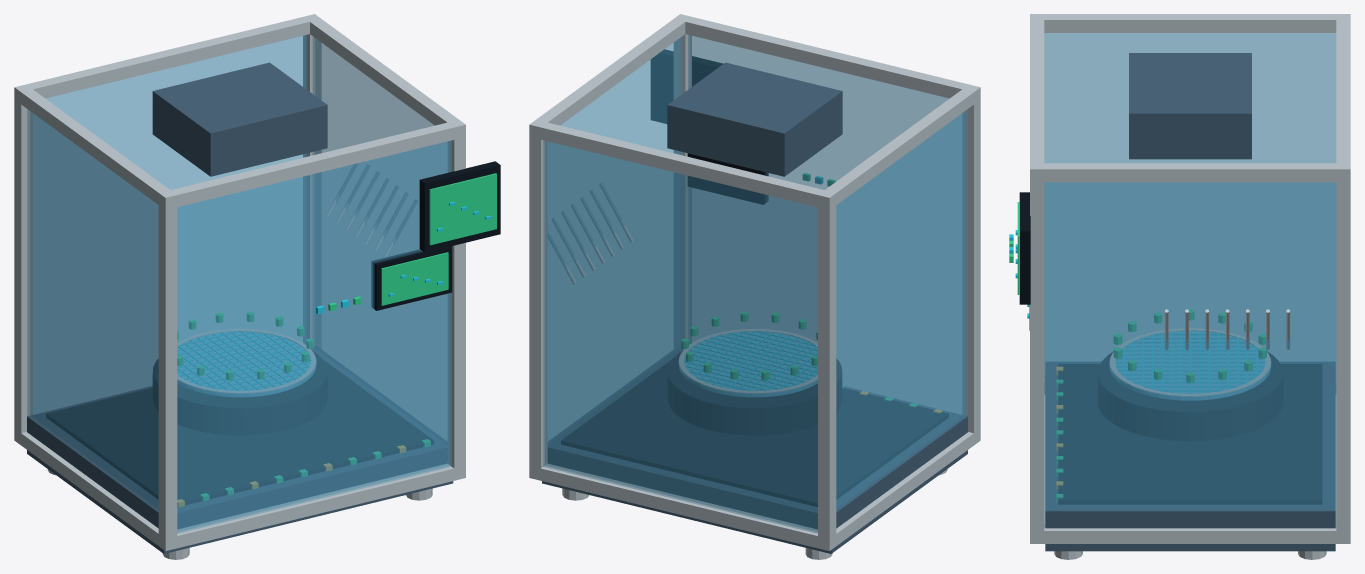
File: 10_L79_KnownGoodDieCertificateScanner.fbx
3 views of the same model, side by side, from view 1: azimuth 30°, elevation 25°; view 2: azimuth 150°, elevation 25°; view 3: azimuth 270°, elevation 25° (orthographic). The views are drawn at different scales.
Visible parts, largest first — view 1: KnownGoodDieCertificateScanner; view 2: KnownGoodDieCertificateScanner; view 3: KnownGoodDieCertificateScanner.
Boxes of the visible parts, <box> form: KnownGoodDieCertificateScanner: <box>14,14,500,559</box>; KnownGoodDieCertificateScanner: <box>529,14,980,559</box>; KnownGoodDieCertificateScanner: <box>1009,14,1350,559</box>.
Size of the model in its own units: 240 by 267 by 202.
